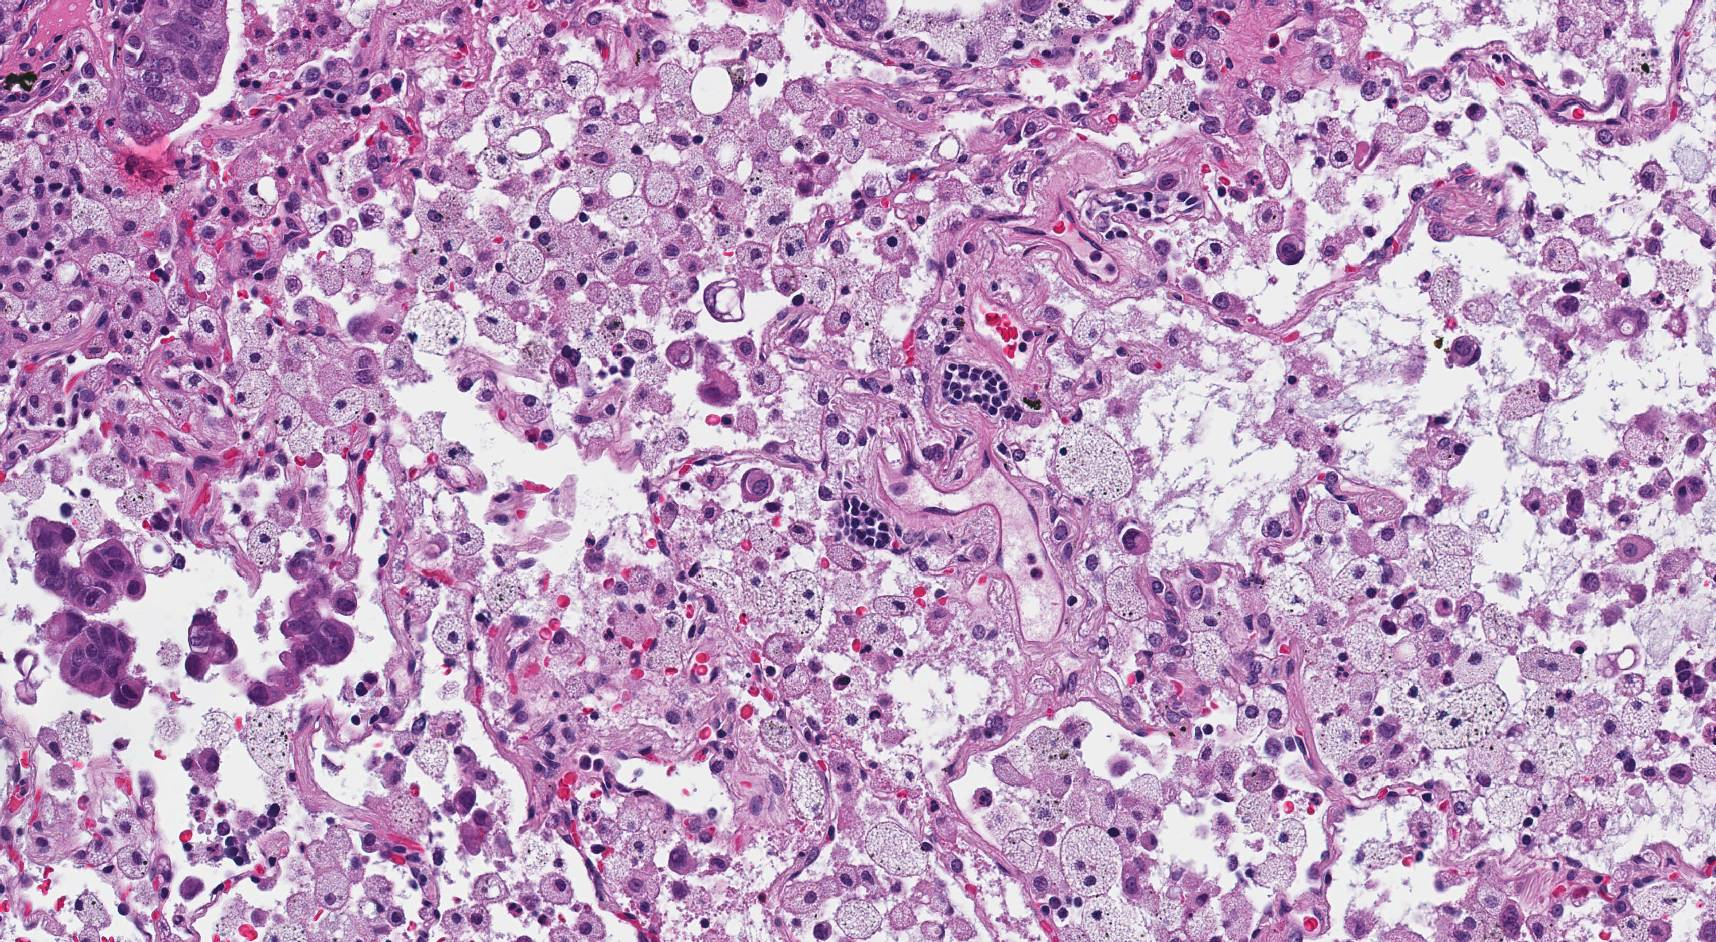stas: (244, 561, 356, 706), (27, 518, 150, 613), (41, 611, 147, 709), (184, 605, 236, 680)
